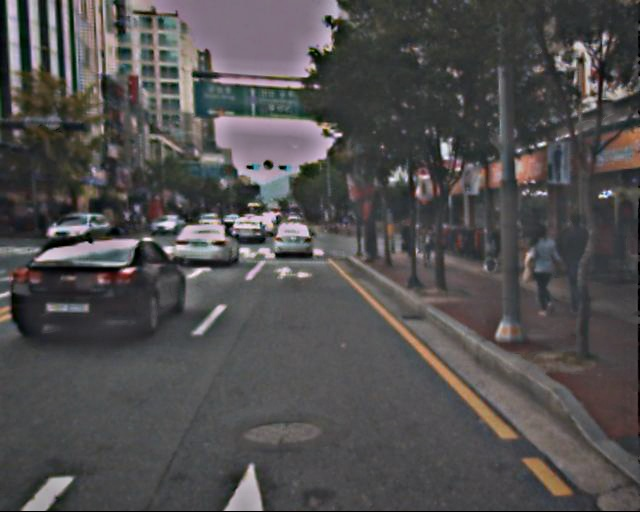person: (553, 213, 594, 313), (523, 225, 562, 319), (419, 218, 438, 265), (398, 222, 416, 251)
